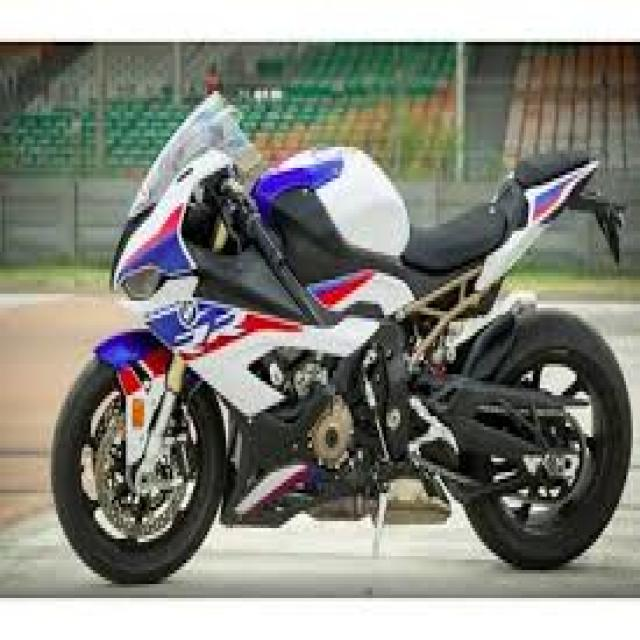Bike: (51, 91, 633, 587)
